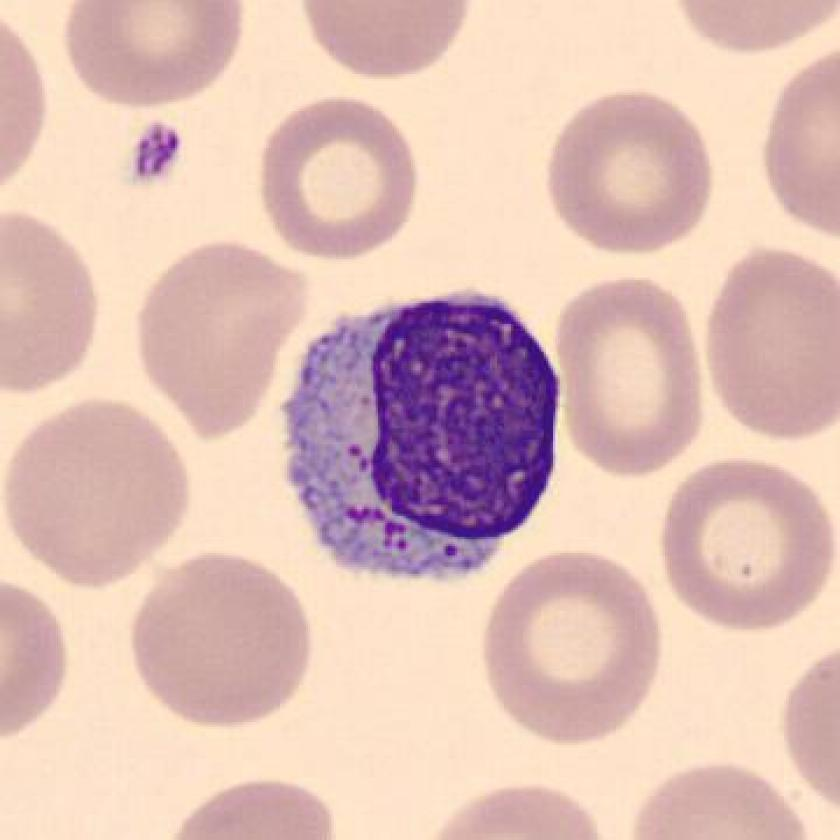lymphocyte: (265, 277, 580, 594)
platelets: (122, 116, 187, 194)
